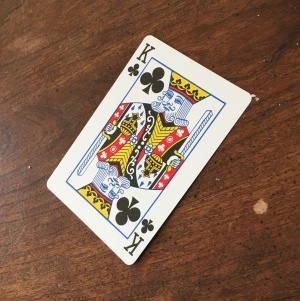card: (46, 33, 253, 268)
